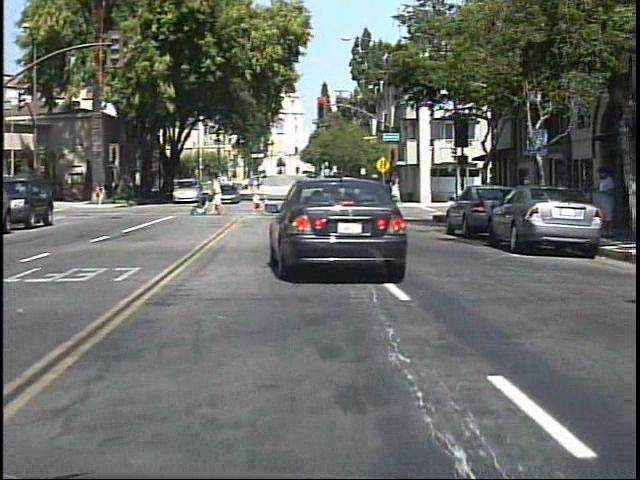person: (594, 162, 621, 215), (210, 170, 231, 217), (97, 180, 112, 207), (127, 175, 128, 205)
